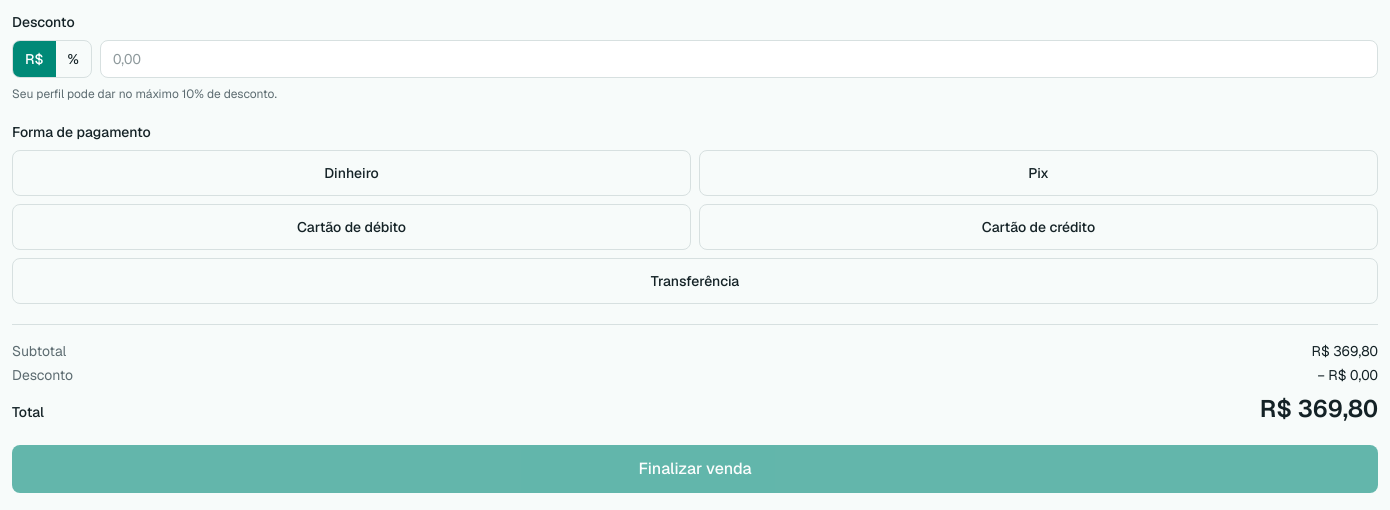
Test case: PdvPagamento › alterna desconto entre R$ e % e mostra o total
This screenshot has width=1390, height=510.
Type "5,00" into the field named "Desconto em reais" at x=739, y=59, box [100,40,1378,78]
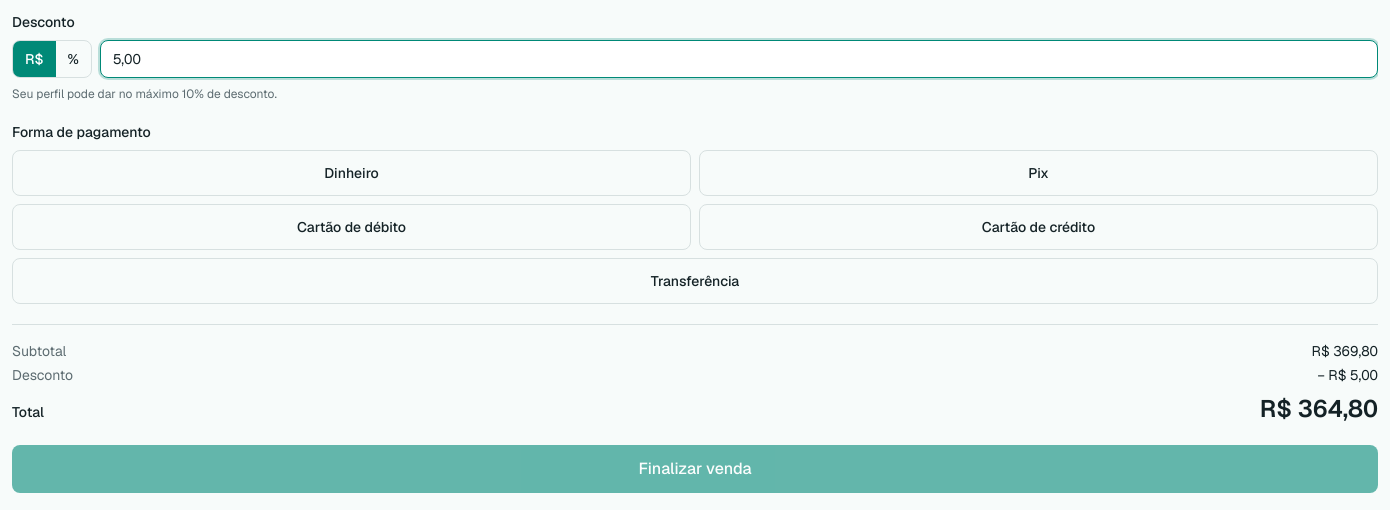
Result: the text with test id "total-venda" shows "364,80" at [1260,393,1378,424]
Click the radio button labelled "%" at x=73, y=59, box [56,41,91,77]
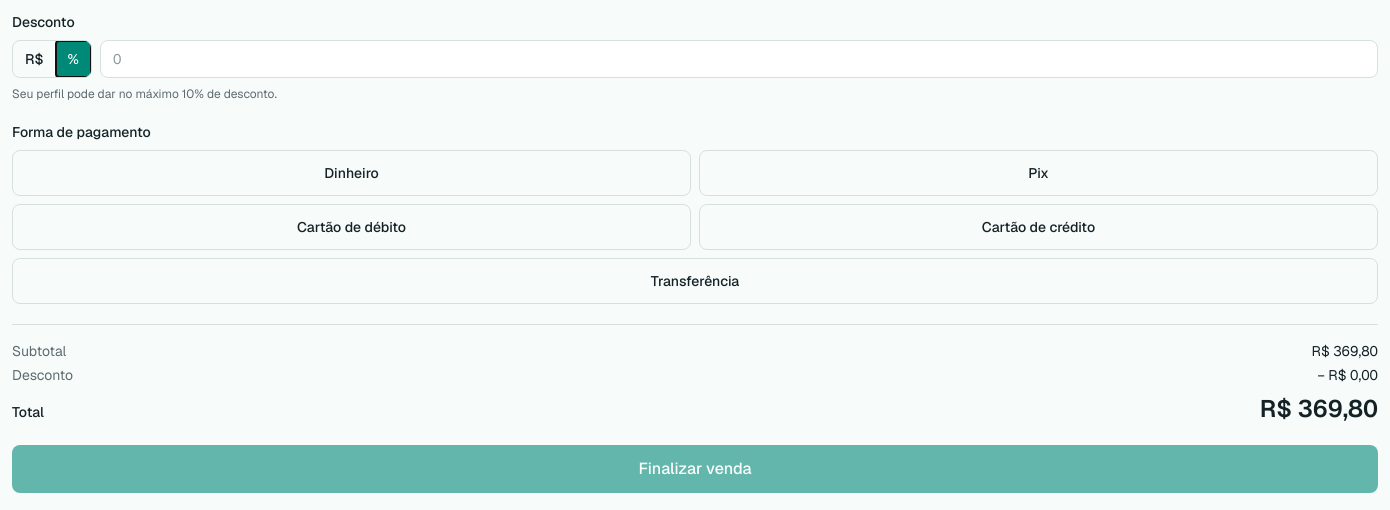
Type "10" into the field named "Desconto em porcentagem" at x=739, y=59, box [100,40,1378,78]
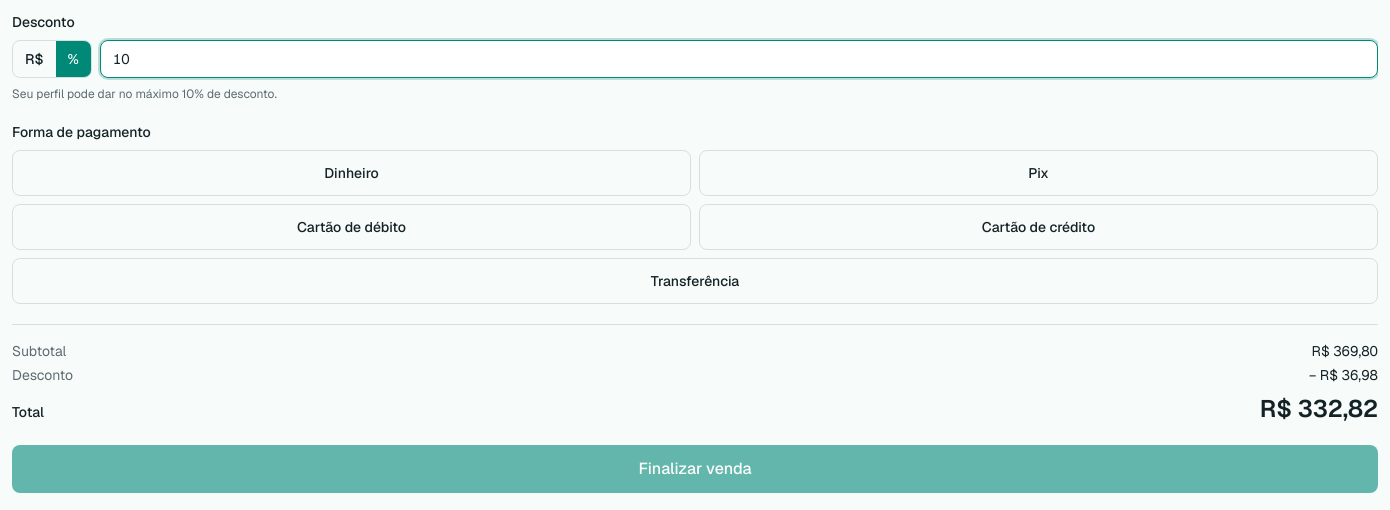
Result: the text with test id "total-venda" shows "332,82" at [1260,393,1378,424]
